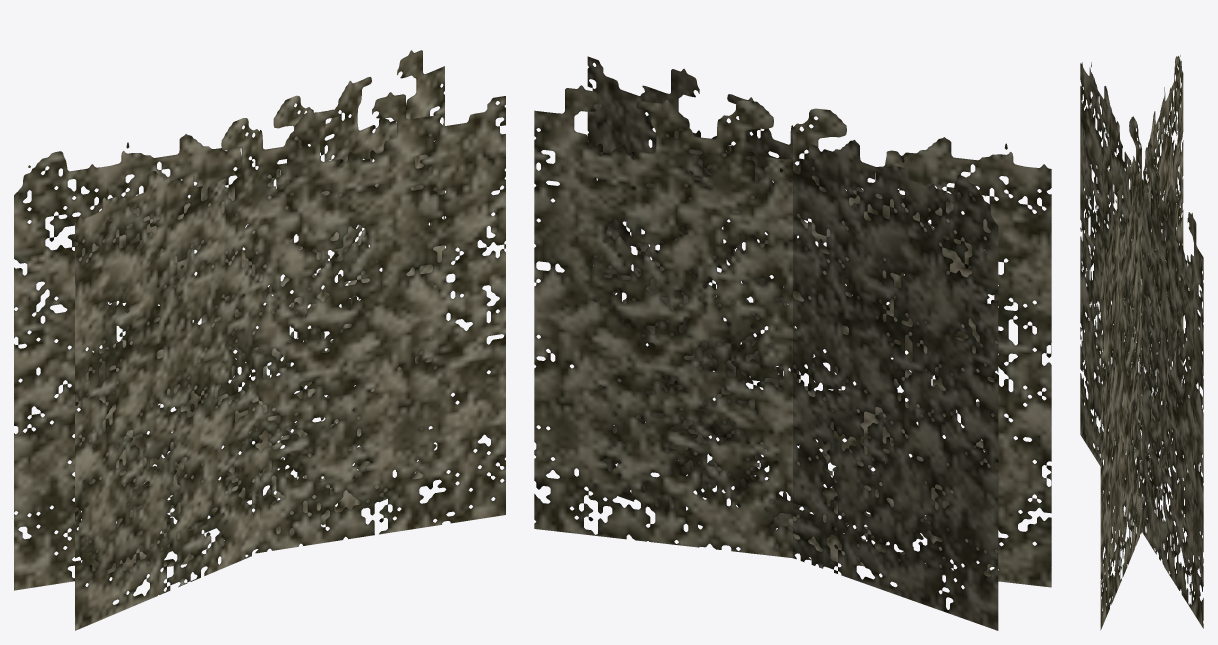
Rendered from bush_tall_overgrown_dead.fbx.
3 views of the same model, side by side, from view 1: azimuth 30°, elevation 25°; view 2: azimuth 150°, elevation 25°; view 3: azimuth 270°, elevation 25° (orthographic). The views are drawn at different scales.
Parts seen in each view (by area): view 1: bush_tall_overgrown_dead; view 2: bush_tall_overgrown_dead; view 3: bush_tall_overgrown_dead.
Part boxes in pixels (x1,y1,x2,y2): bush_tall_overgrown_dead: [14, 50, 505, 630]; bush_tall_overgrown_dead: [534, 56, 1051, 630]; bush_tall_overgrown_dead: [1080, 55, 1203, 630].
Size of the model in its own units: 209 by 206 by 54.93.
1 material, 1 textured.
